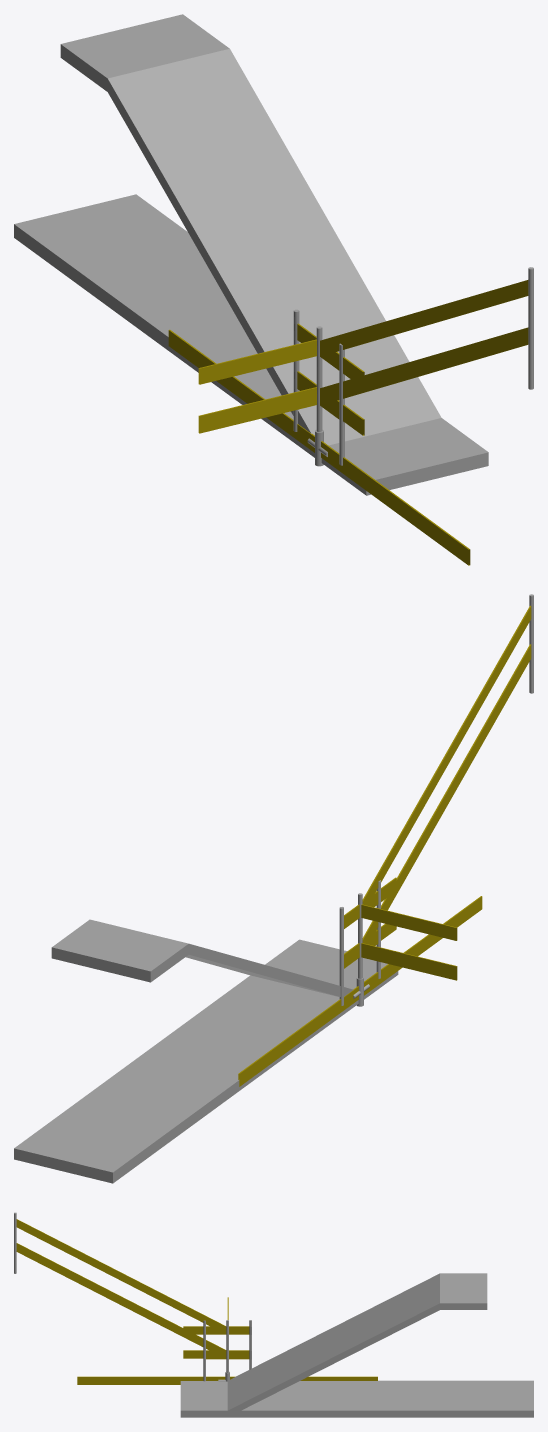
File: LadderParts.fbx
3 views of the same model, one above another, from view 1: azimuth 30°, elevation 25°; view 2: azimuth 150°, elevation 25°; view 3: azimuth 270°, elevation 25° (orthographic). The views are drawn at different scales.
Visible parts, largest first — view 1: Ladder, Floor, Ladder_Border, PoleEdge, Plank, PolePlank; view 2: Floor, Ladder, Ladder_Border, PoleEdge, Plank, PolePlank; view 3: Ladder, Floor, Ladder_Border, Plank, PolePlank, PoleEdge.
Part boxes in pixels (x1,y1,x2,y2): Ladder: (60,14,488,495); Floor: (14,194,314,457); Ladder_Border: (316,267,533,431); PoleEdge: (198,326,364,435); Plank: (168,329,470,565); PolePlank: (293,309,344,465); Floor: (14,975,358,1183); Ladder: (51,919,398,1001); Ladder_Border: (358,594,533,978); PoleEdge: (358,877,457,980); Plank: (238,896,482,1086); PolePlank: (339,880,380,1005); Ladder: (180,1273,487,1417); Floor: (227,1380,533,1417); Ladder_Border: (14,1212,226,1350); Plank: (77,1376,377,1384); PolePlank: (203,1320,251,1381); PoleEdge: (183,1297,228,1372).
Size of the model in its own units: 5.94 by 8.23 by 22.04.
